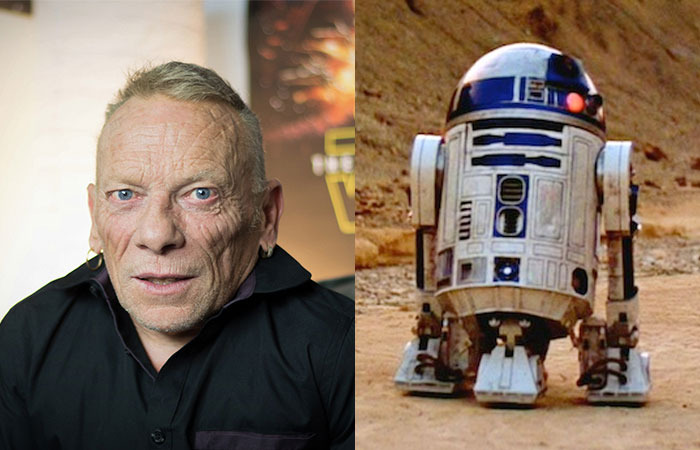r2d2: (400, 44, 654, 407)
